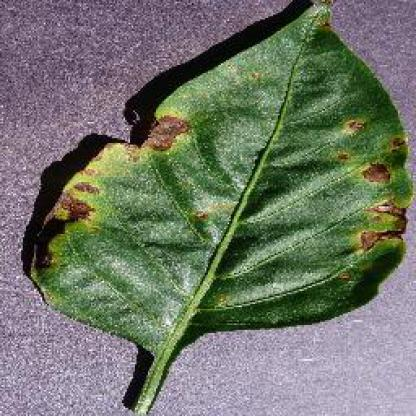bad leaf: (18, 6, 414, 394)
